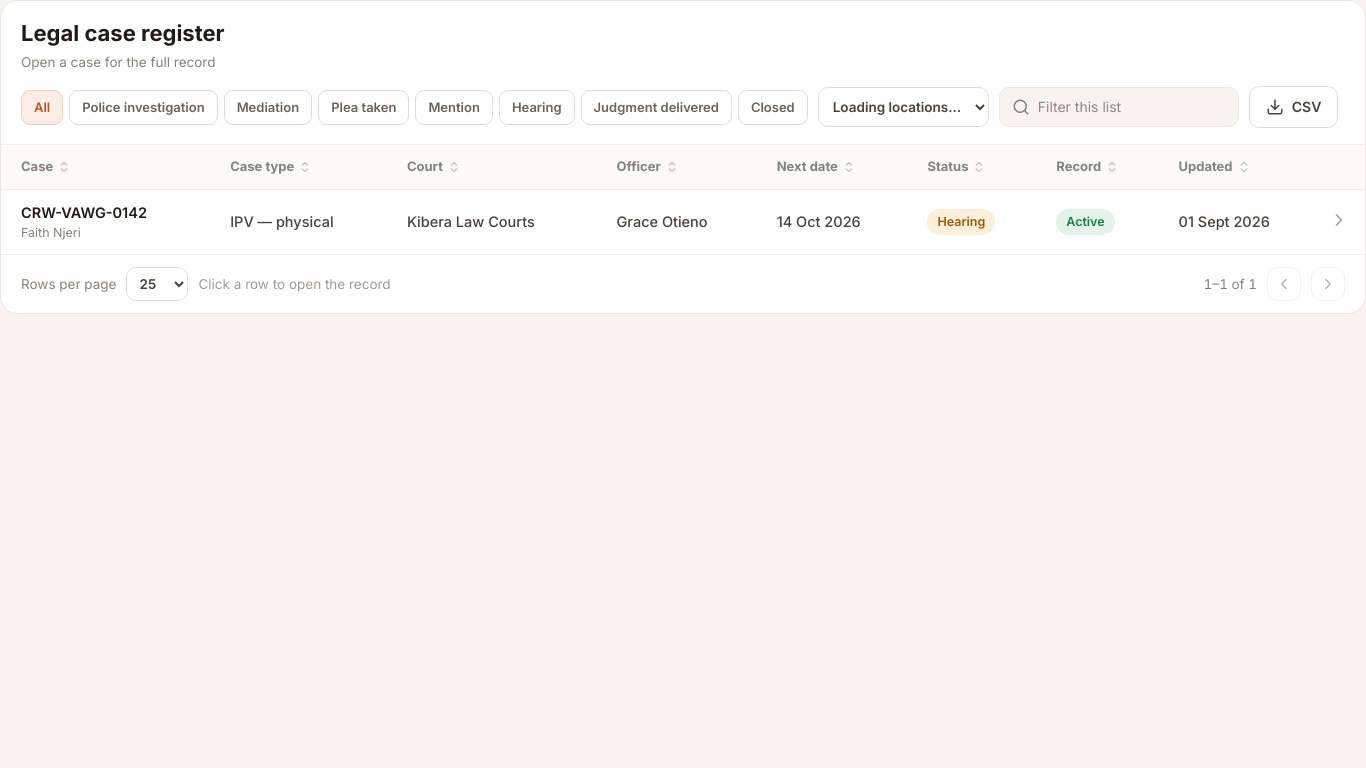
Test case: VAWG case register › restores the selected case's drawer after a successful save
Step 1. Click the button named "Open CRW-VAWG-0142" → [1339, 220], box [1327, 208, 1351, 232]
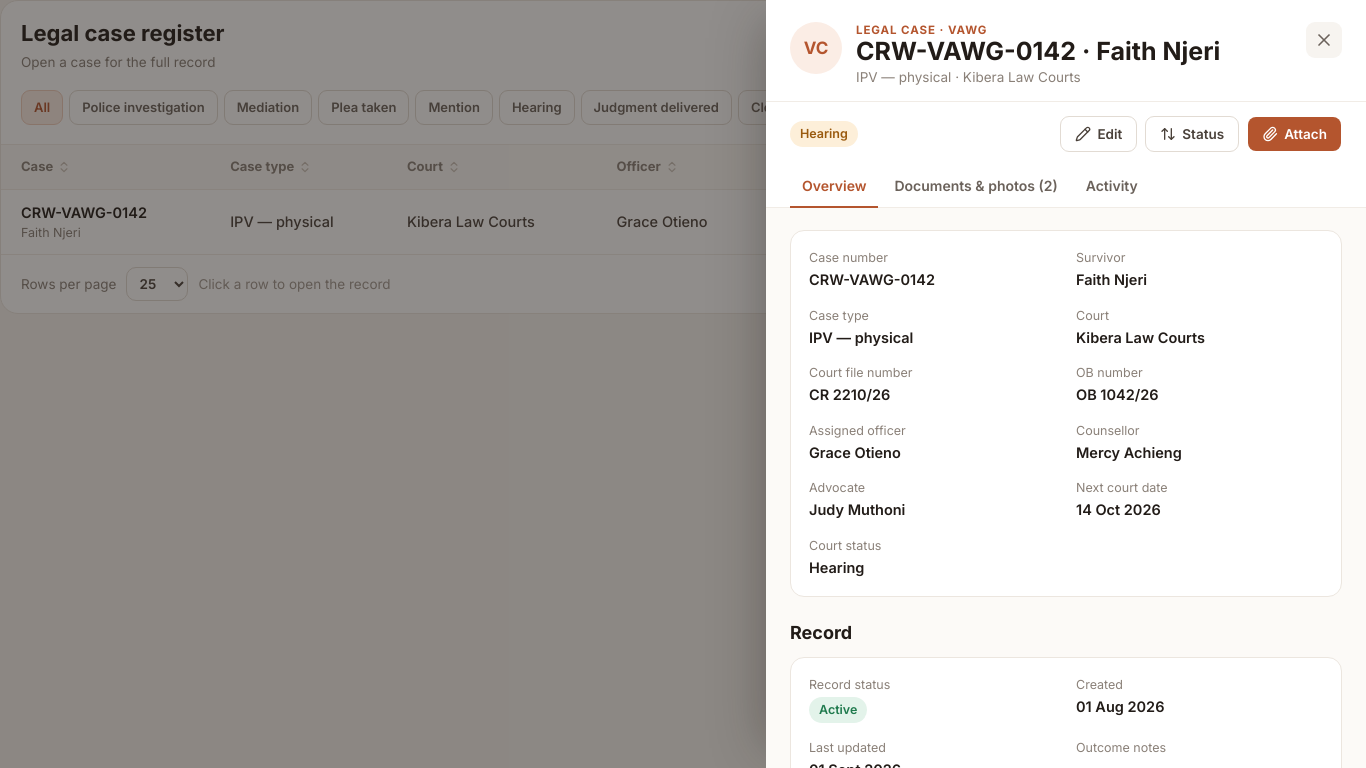
Expected: the tab "Documents & photos (2)" is shown, [882, 166, 1070, 208]
Step 2. Click the button "Edit" → [1099, 134], box [1060, 116, 1137, 152]
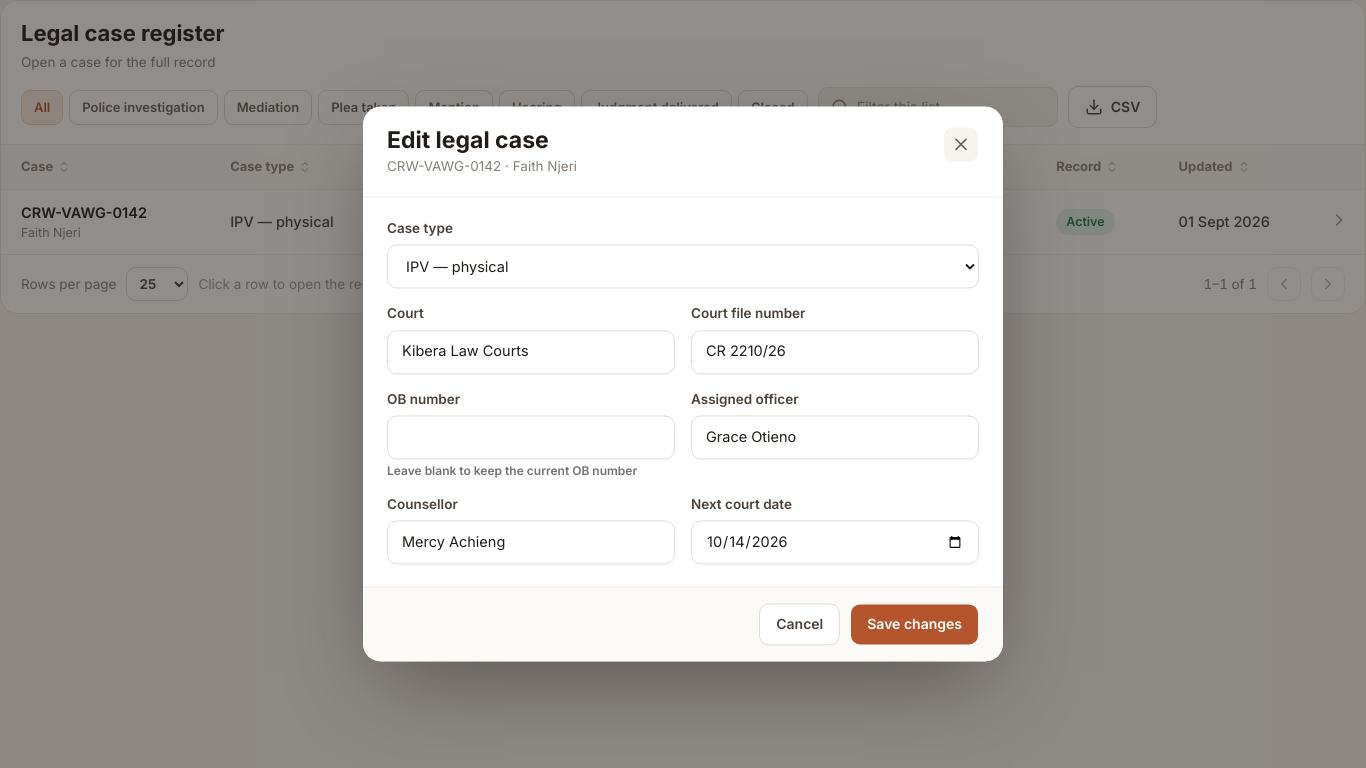
Step 3. Click the button "Save changes" → [915, 625], box [850, 604, 979, 646]
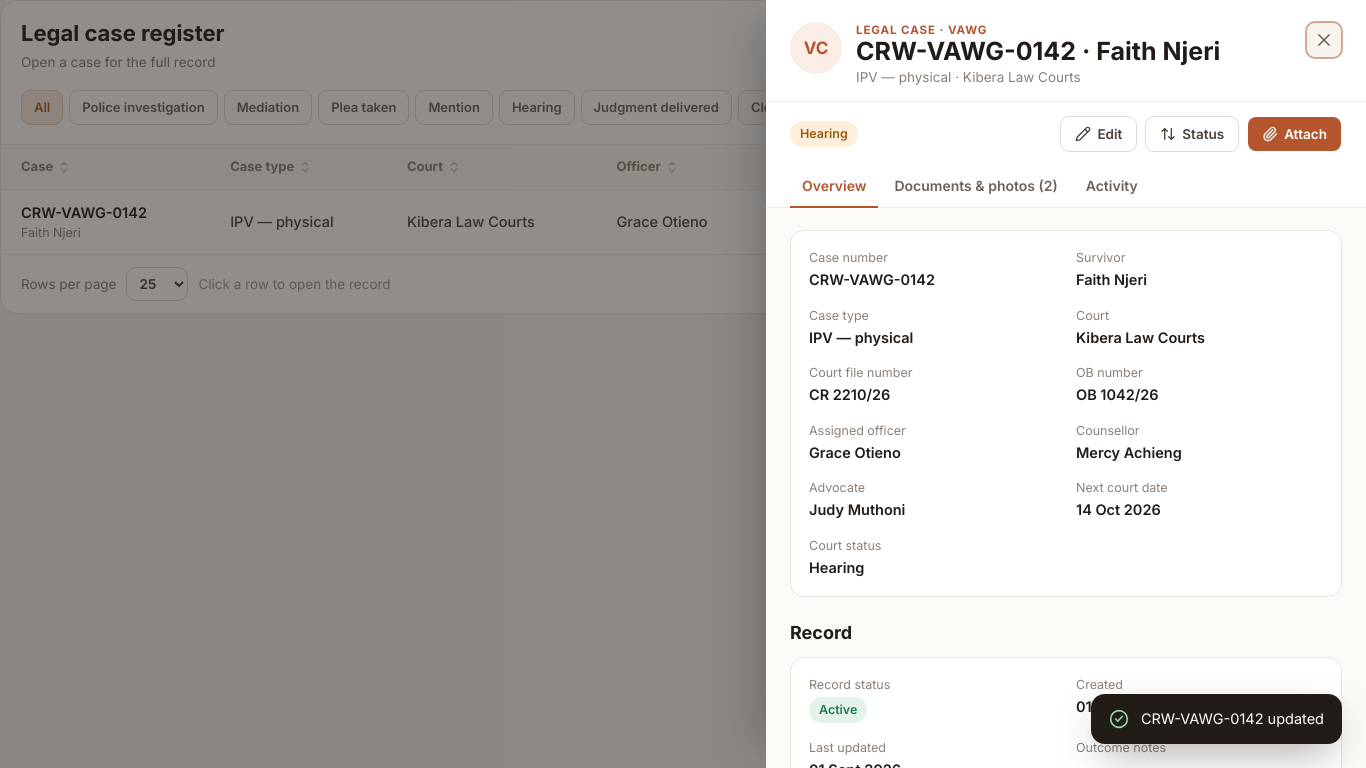
Expected: the dialog "CRW-VAWG-0142" is shown, [766, 0, 1365, 767]
Expected: the heading "Edit legal case" is gone
